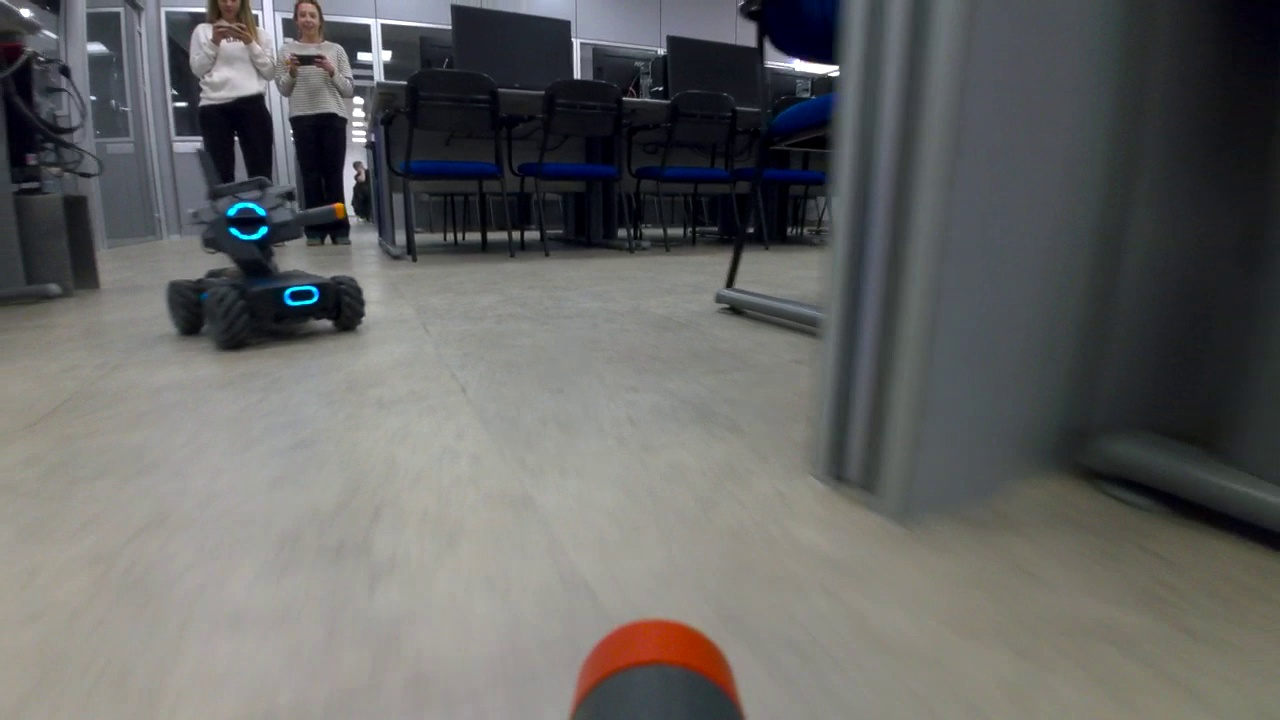robot: (164, 174, 371, 357)
